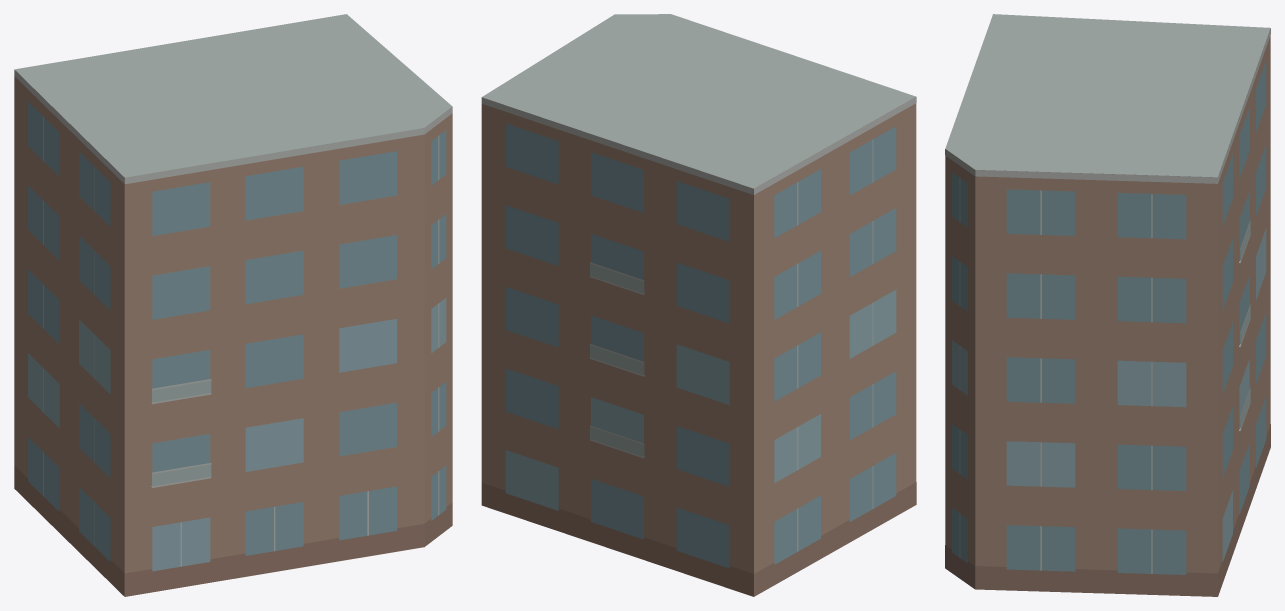
File: survey-upis-32522980.glb
3 views of the same model, side by side, from view 1: azimuth 30°, elevation 25°; view 2: azimuth 150°, elevation 25°; view 3: azimuth 270°, elevation 25° (orthographic). The views are drawn at different scales.
Parts seen in each view (by area): view 1: survey-upis-32522980.tmp; view 2: survey-upis-32522980.tmp; view 3: survey-upis-32522980.tmp.
Boxes of the visible parts, x1,y1,x2,y2 form: survey-upis-32522980.tmp: [14, 14, 452, 596]; survey-upis-32522980.tmp: [481, 14, 916, 596]; survey-upis-32522980.tmp: [945, 14, 1270, 596].
Bounding box in the file's own units: 12.94 × 15.5 × 10.91.
